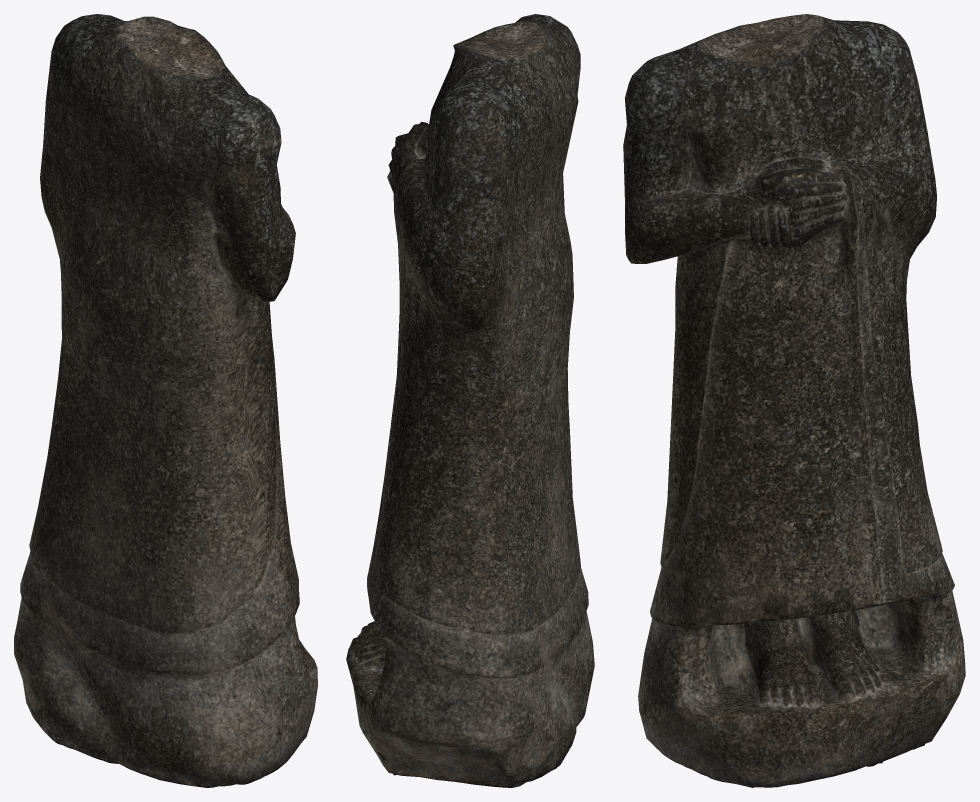
File: L2_Antique6.fbx
The picture shows the model from 3 angles, left to right: view 1: azimuth 30°, elevation 25°; view 2: azimuth 150°, elevation 25°; view 3: azimuth 270°, elevation 25°; orthographic projection. The views are drawn at different scales.
Parts seen in each view (by area): view 1: L2_Anti2; view 2: L2_Anti2; view 3: L2_Anti2.
Boxes of the visible parts, left/top/right/bottom form: L2_Anti2: left=14, top=14, right=317, bottom=787; L2_Anti2: left=346, top=14, right=594, bottom=787; L2_Anti2: left=623, top=14, right=965, bottom=787.
Bounding box in the file's own units: 0.0906 × 0.2757 × 0.1215.
Materials: 1 (1 with a texture image).
